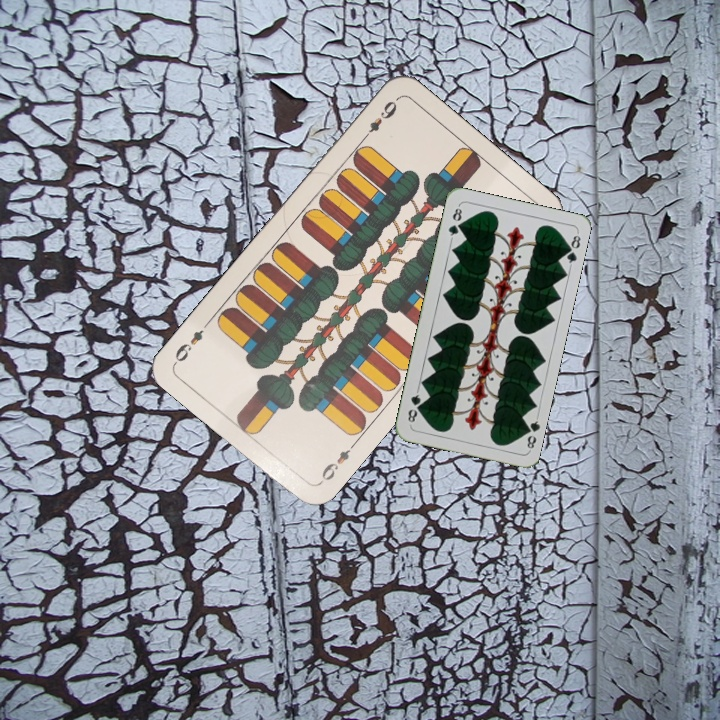E9: (315, 438, 359, 486), (357, 95, 400, 144)
G8: (519, 413, 542, 453), (444, 202, 464, 242)
